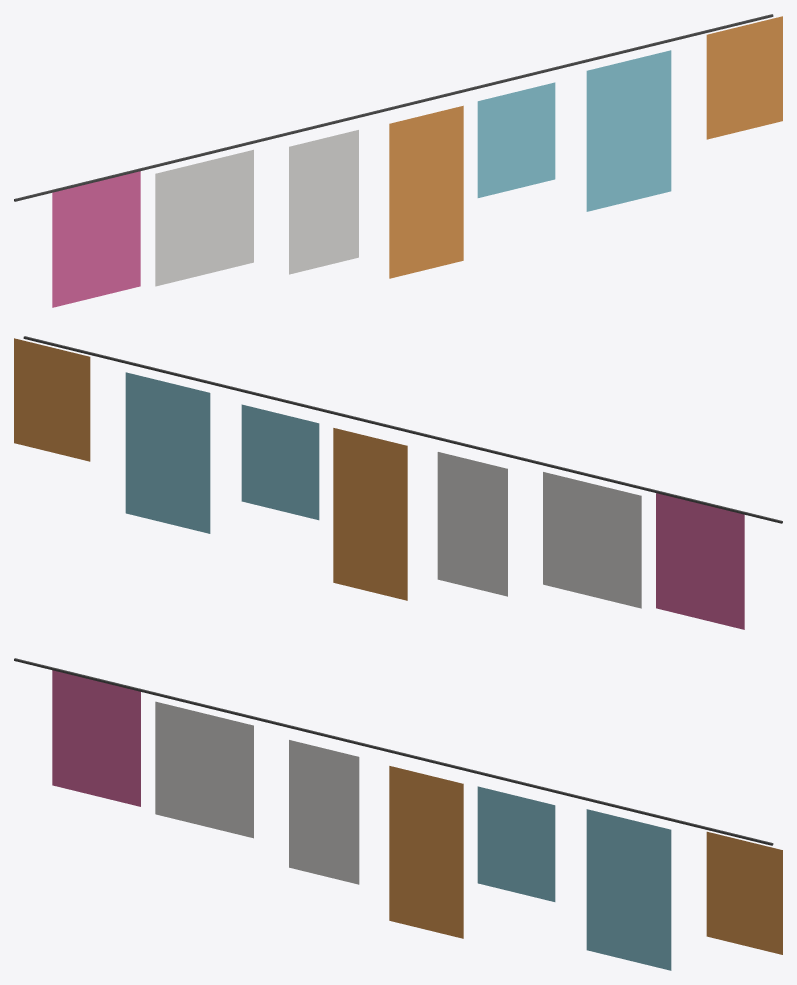
File: fv_laundry.glb
3 renders of one model, top to bottom at view 1: azimuth 30°, elevation 25°; view 2: azimuth 150°, elevation 25°; view 3: azimuth 330°, elevation 25°, orthographic.
Visible parts, largest first — view 1: fv_laundry; view 2: fv_laundry; view 3: fv_laundry.
Boxes of the visible parts, x1,y1,x2,y2 form: fv_laundry: (14,14,782,307); fv_laundry: (14,336,782,629); fv_laundry: (14,658,782,970).
Bounding box in the file's own units: 4.05 × 0.861 × 0.0099.
